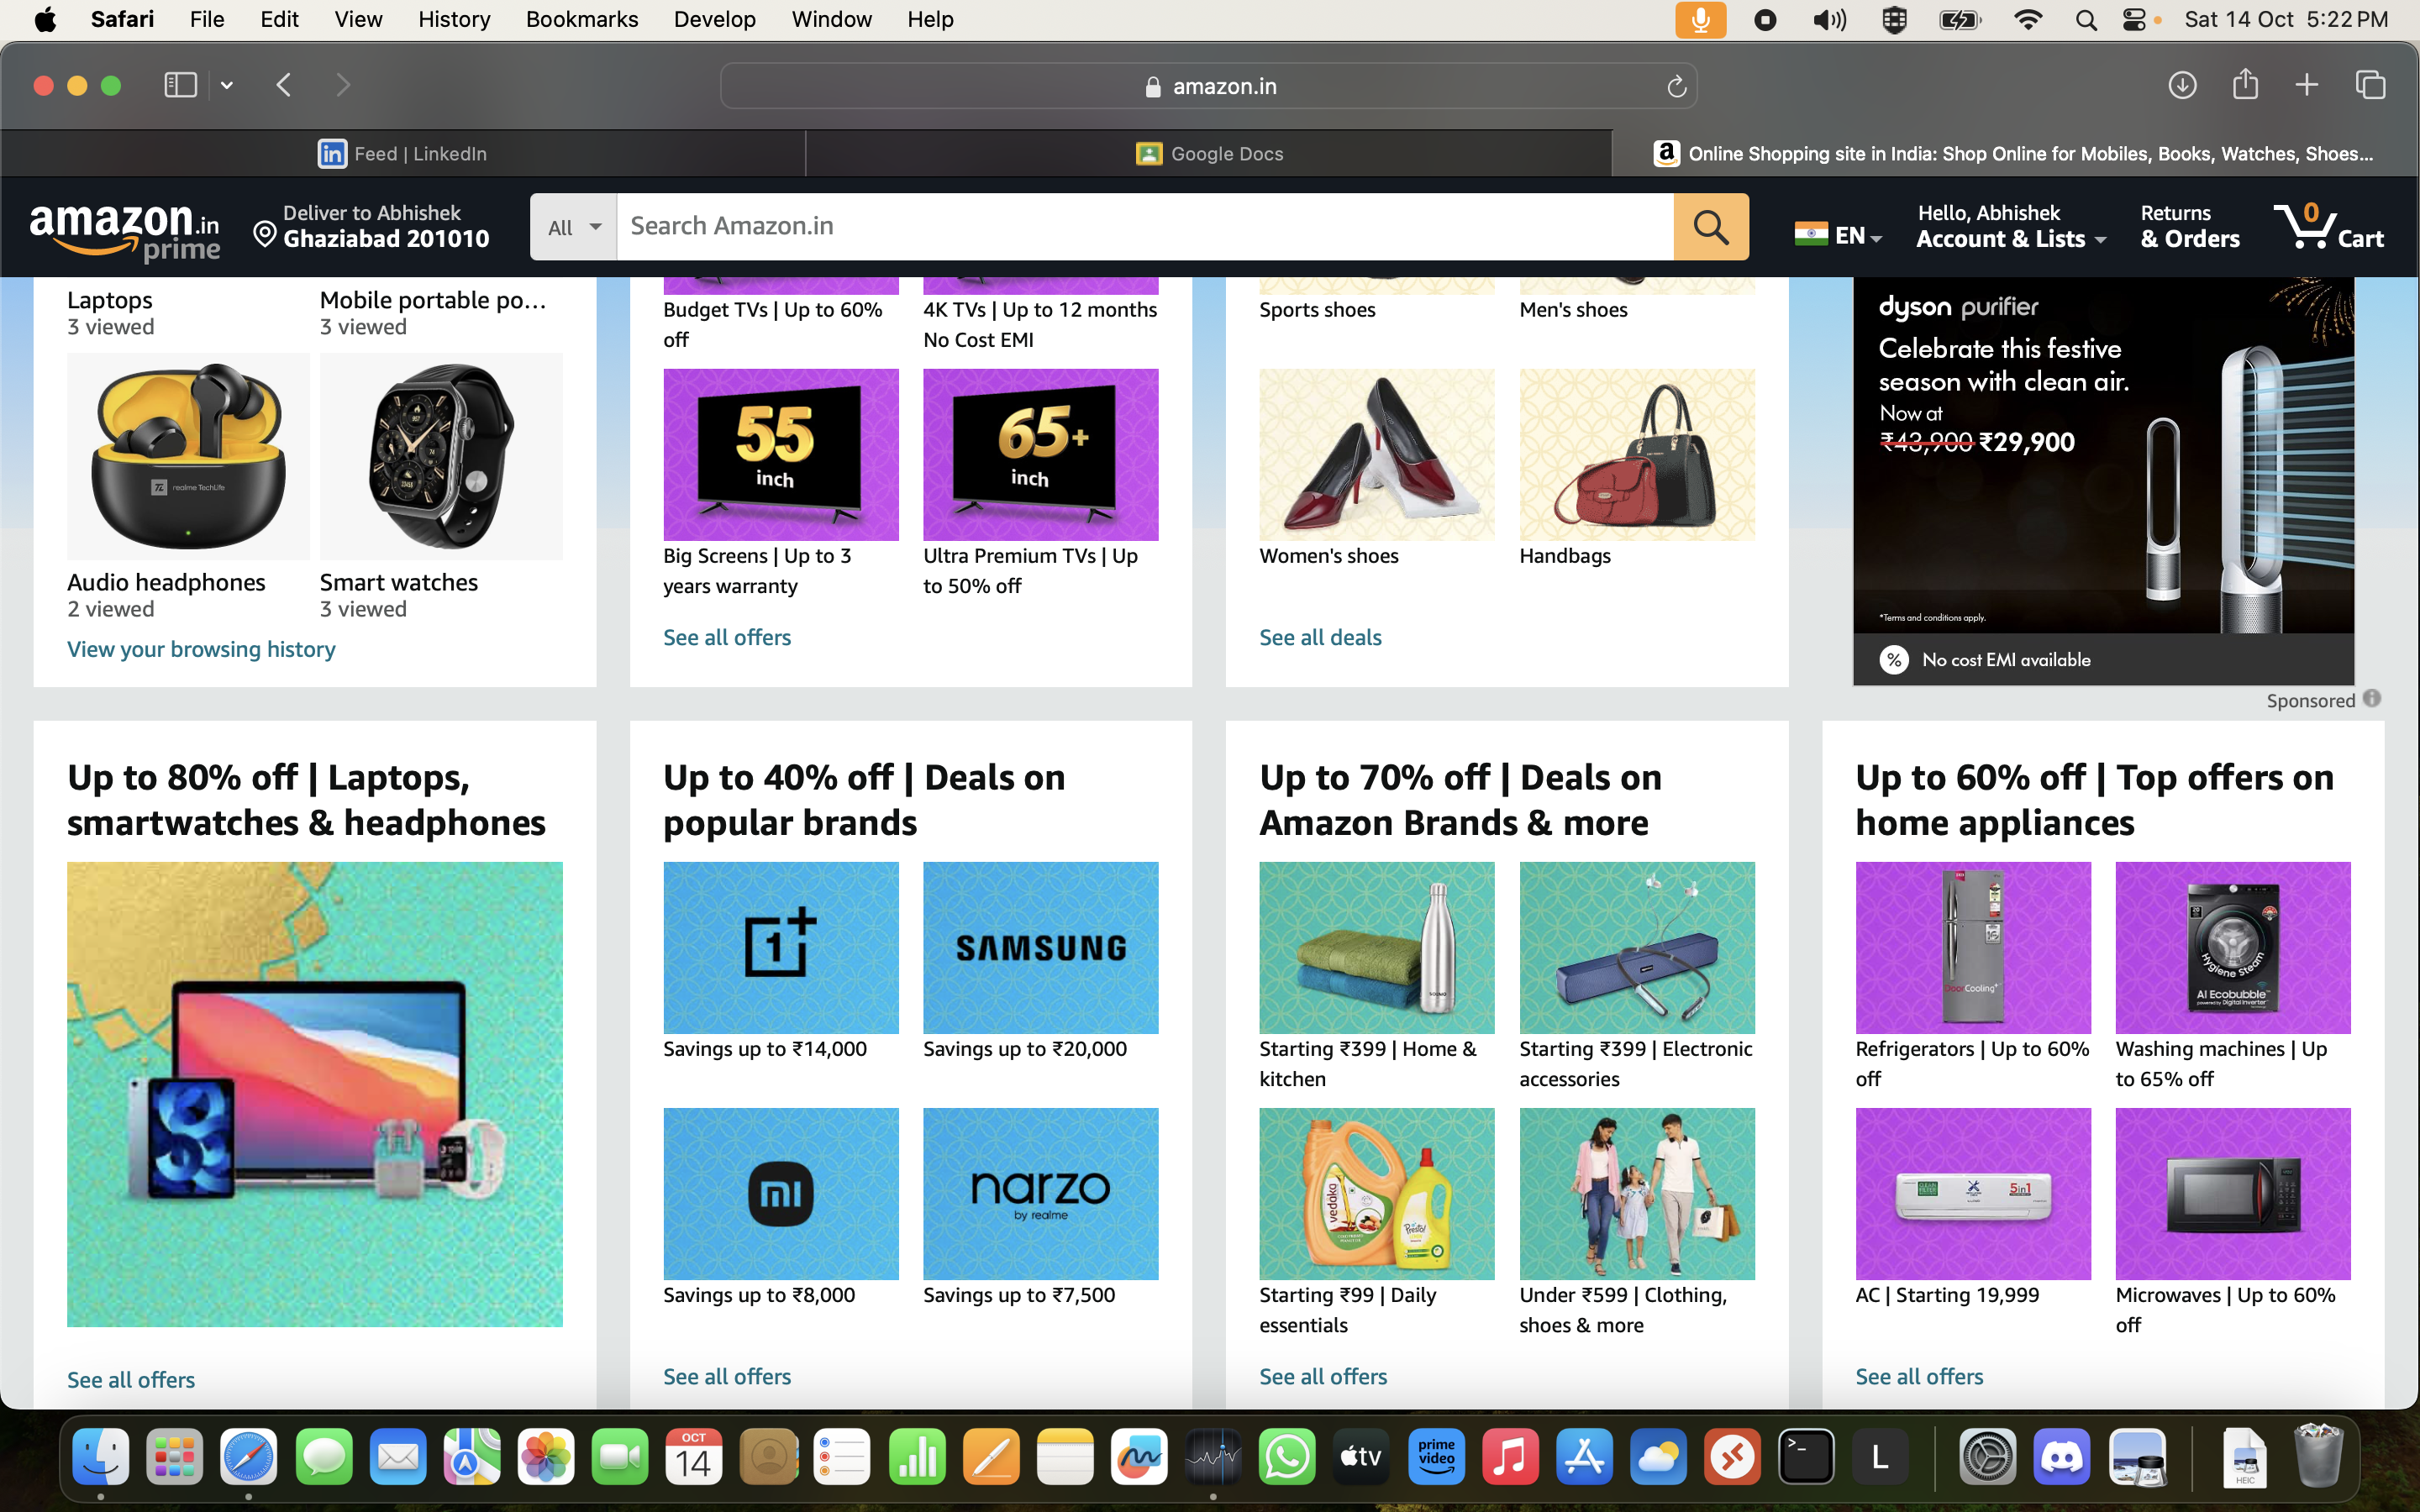Image: (99, 963, 507, 1207), (2113, 326, 2349, 634), (64, 354, 298, 563), (350, 361, 517, 559), (1279, 1115, 1474, 1272), (1286, 383, 1474, 542), (1547, 387, 1735, 545), (1561, 1101, 1732, 1268), (1554, 902, 1735, 1031), (1310, 885, 1469, 1016), (1910, 867, 2026, 1035), (953, 397, 1129, 503), (697, 401, 864, 500), (2157, 1151, 2312, 1254), (2171, 888, 2298, 1009), (1876, 1151, 2079, 1225), (737, 881, 814, 998), (733, 1151, 829, 1242)
Paragraph: (54, 744, 563, 861), (1258, 723, 1690, 850), (1849, 744, 2356, 850), (1862, 277, 2120, 481), (662, 737, 1077, 857), (1502, 1282, 1753, 1364), (1246, 1023, 1484, 1101), (916, 535, 1166, 610), (1246, 1265, 1469, 1348), (1516, 1031, 1756, 1104), (662, 291, 899, 361), (1897, 174, 2103, 254), (2106, 1279, 2352, 1345), (1849, 1038, 2106, 1101), (2113, 1035, 2343, 1104), (659, 531, 868, 606), (305, 552, 493, 631), (913, 291, 1173, 347), (946, 916, 1148, 984), (49, 634, 368, 676), (308, 291, 559, 343), (1852, 1265, 2061, 1327), (61, 570, 274, 631), (35, 209, 233, 273), (960, 1162, 1122, 1235), (1221, 1350, 1451, 1399), (2120, 181, 2246, 268), (655, 1279, 889, 1324), (1856, 1341, 1990, 1409), (54, 280, 171, 347), (1788, 181, 1880, 265), (655, 1348, 803, 1399), (916, 1038, 1152, 1070), (909, 1279, 1145, 1310), (1904, 648, 2103, 683), (1249, 287, 1389, 336), (1519, 287, 1664, 333), (662, 613, 803, 658), (659, 1042, 885, 1070), (42, 1364, 223, 1399), (1491, 535, 1629, 577), (1253, 538, 1406, 573), (1253, 617, 1406, 651)
